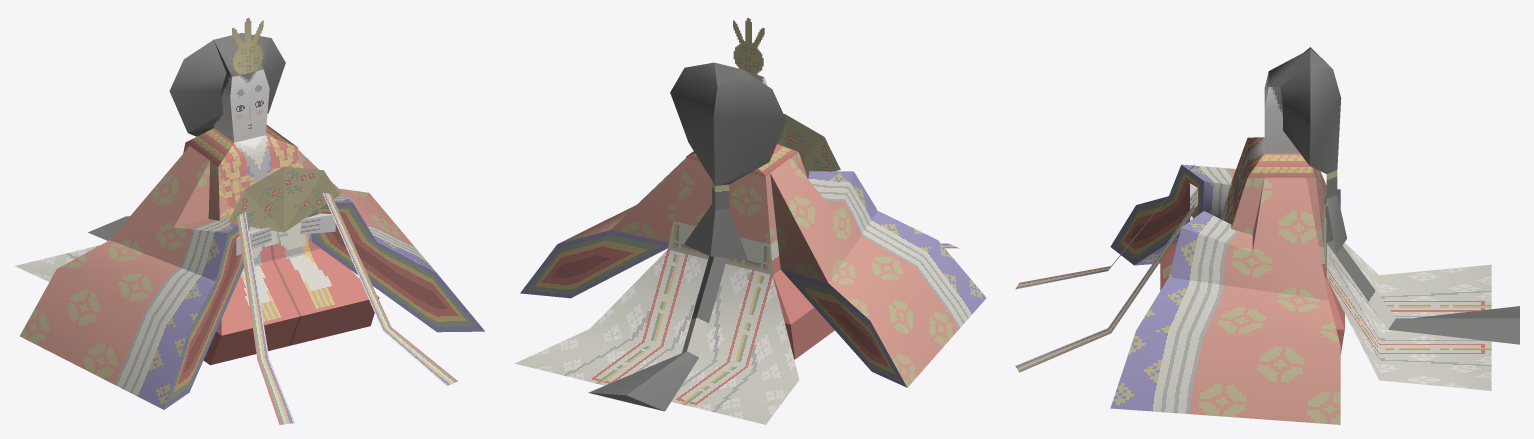
The model's file is 029a_Hina_Doll.glb.
The picture shows the model from 3 angles, left to right: view 1: azimuth 30°, elevation 25°; view 2: azimuth 150°, elevation 25°; view 3: azimuth 270°, elevation 25°; orthographic projection. The views are drawn at different scales.
Visible parts, largest first — view 1: part_0; view 2: part_0; view 3: part_0.
Part boxes in pixels (x1=…): part_0: x1=15, y1=17, x2=484, y2=424; part_0: x1=515, y1=17, x2=986, y2=424; part_0: x1=1015, y1=47, x2=1519, y2=424.
Size of the model in its own units: 0.3863 by 0.2831 by 0.4235.
1 material, 1 textured.
